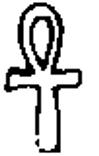Ankh: (2, 4, 92, 154)
